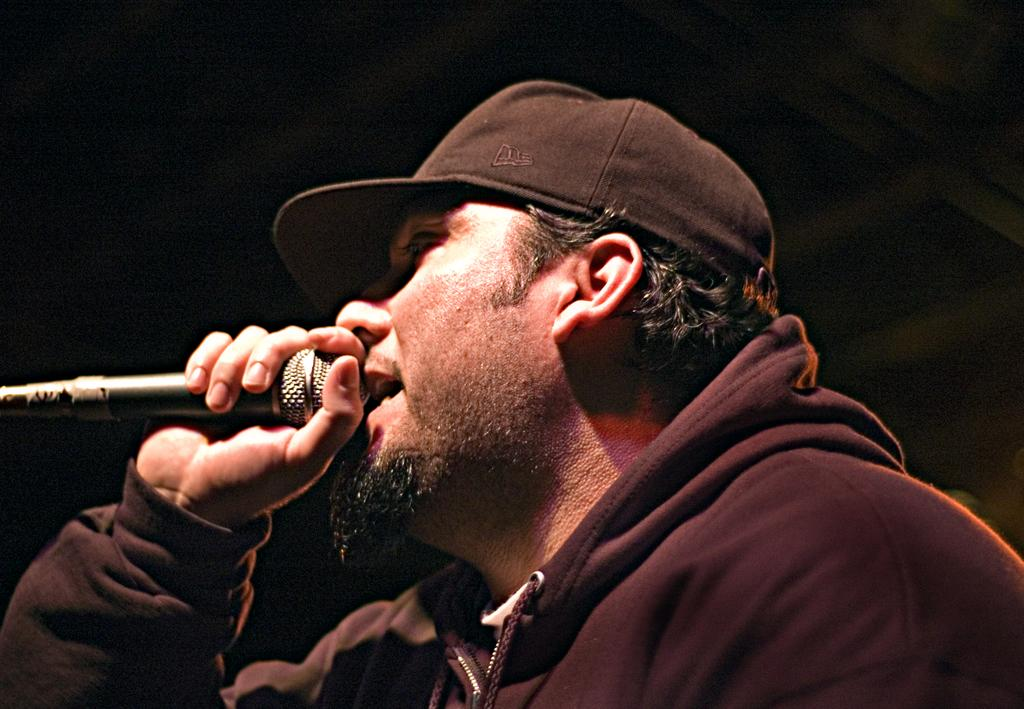Hat: (272, 75, 772, 317)
